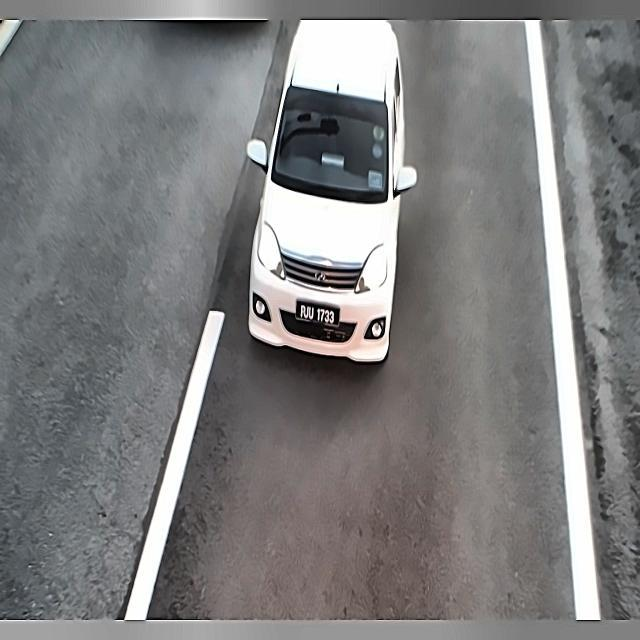car: (291, 294, 344, 332)
